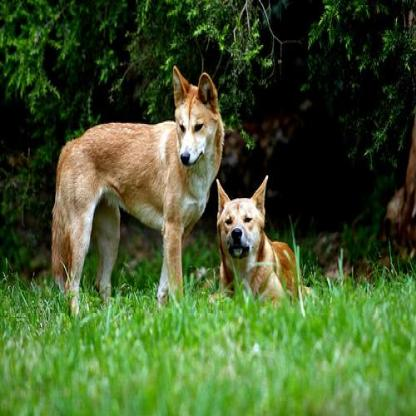dingo: (47, 60, 224, 320)
